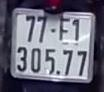0: (30, 45, 43, 74)
1: (72, 17, 81, 48)
3: (15, 44, 28, 72)
5: (45, 46, 56, 75)
7: (23, 14, 36, 44), (36, 13, 48, 45), (75, 49, 88, 78), (62, 47, 73, 76)
F: (58, 16, 72, 45)
